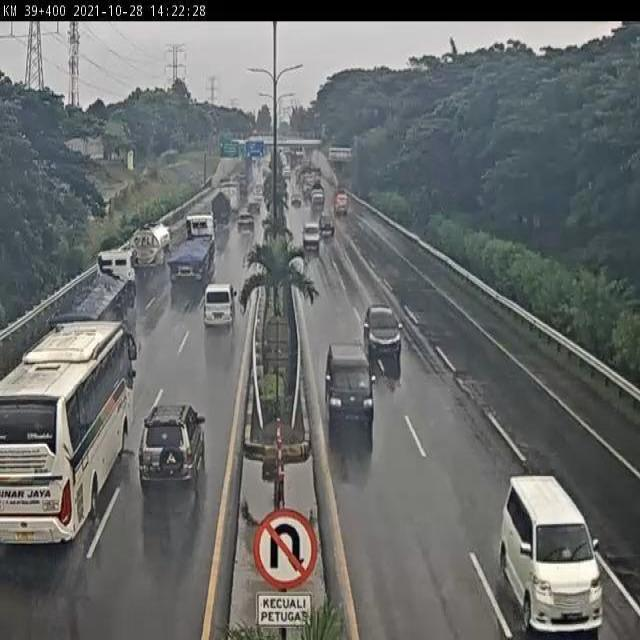ARABA: (497, 473, 603, 636), (136, 401, 207, 488), (201, 281, 236, 331), (234, 209, 257, 236)
KAMYONET: (129, 219, 173, 272), (209, 194, 234, 238)
OTOBUS: (0, 317, 135, 548)
TIR: (35, 249, 135, 348), (168, 214, 216, 282)
